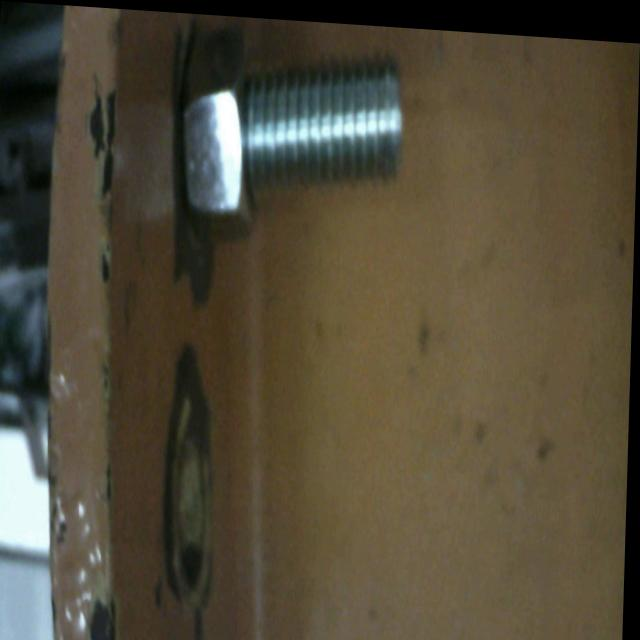Missing bolt: (166, 397, 216, 602)
Regular bolt: (174, 11, 407, 241)
